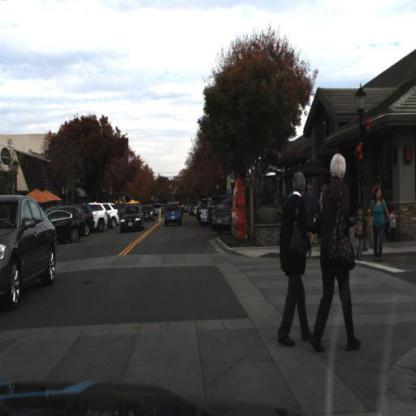car: (1, 194, 61, 305), (43, 207, 86, 247), (210, 195, 237, 235), (85, 201, 110, 237), (117, 202, 146, 233), (163, 201, 184, 228), (140, 205, 159, 228)
pedestrian: (312, 149, 364, 362), (276, 172, 316, 361), (370, 187, 393, 264)
